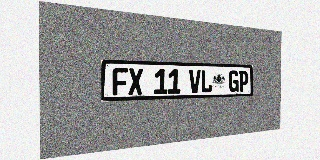1: (154, 69, 167, 94), (168, 69, 180, 94)
F: (112, 68, 128, 95)
G: (229, 70, 239, 92)
L: (201, 70, 212, 93)
P: (239, 70, 248, 92)
V: (189, 69, 201, 93)
X: (128, 68, 143, 95)
